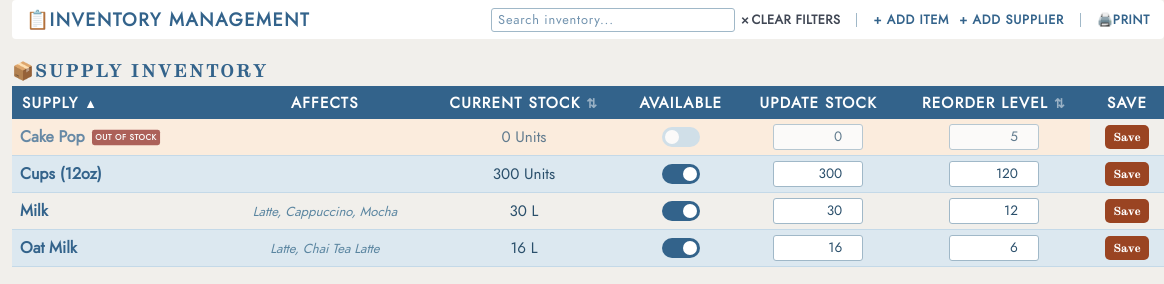
Test: AdminInventoryPage › clear filters button resets the shared search input
The image size is (1164, 284).
Expected: the text "Milk" is shown, [20, 200, 48, 222]
Type "cups" into the field with placeholder "Search inventory..." at (613, 20), box [491, 8, 735, 32]
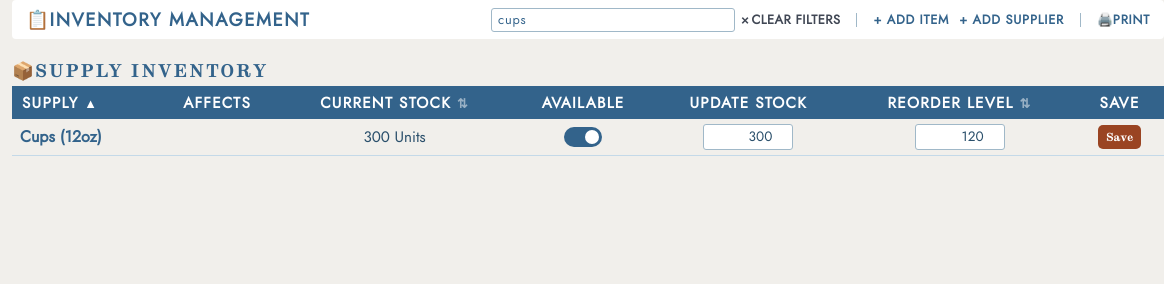
Expected: the text "Milk" is gone
Click the button "× CLEAR FILTERS" at (791, 20), box [741, 10, 840, 28]
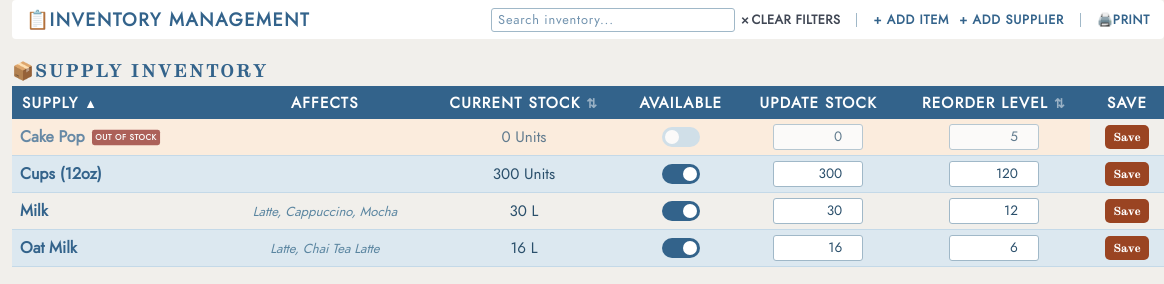
Expected: the text "Cups (12oz)" is shown, [20, 163, 102, 185]
Expected: the field with placeholder "Search inventory..." is empty, [491, 8, 735, 32]
Expected: the text "Milk" is shown, [20, 200, 48, 222]
